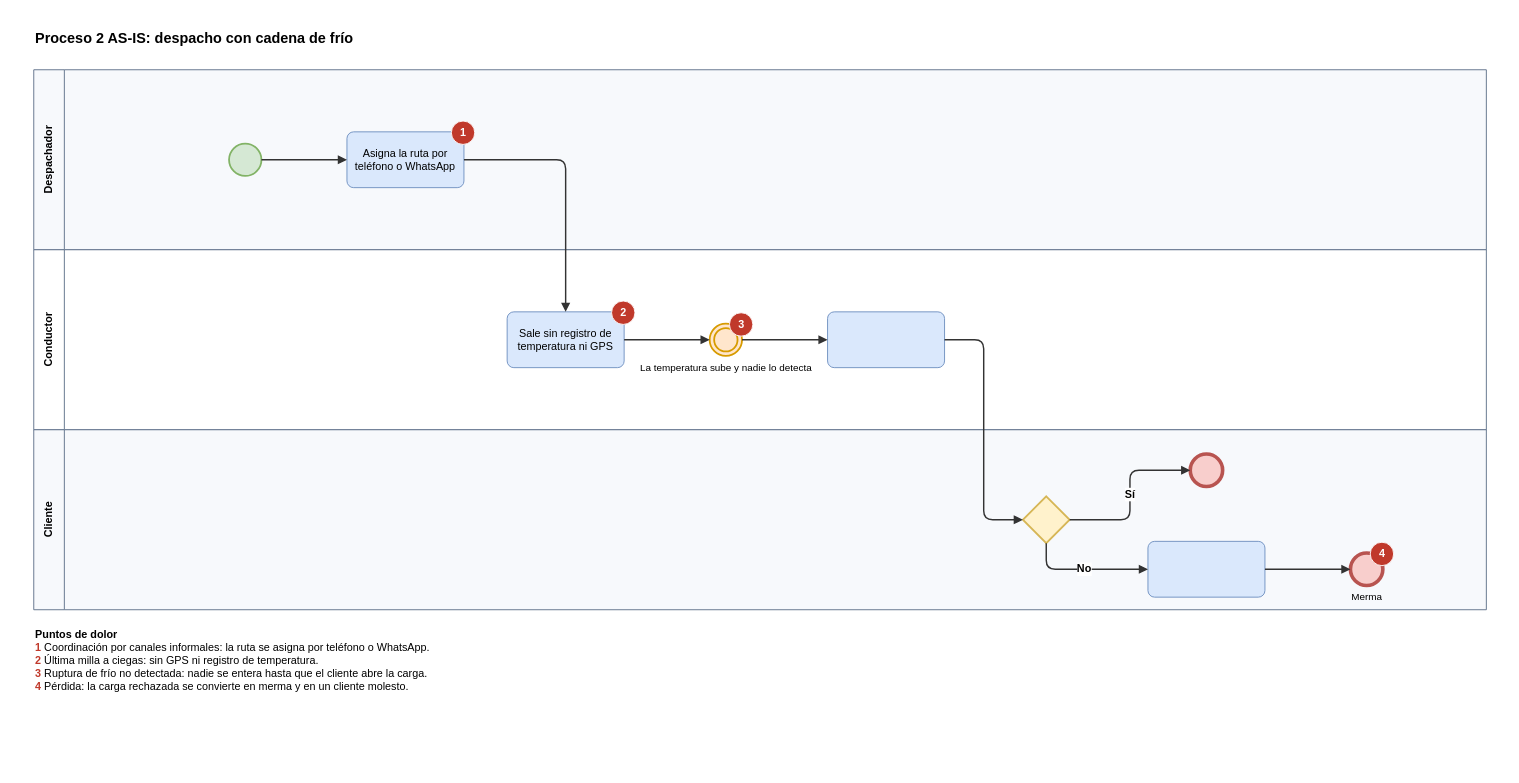
This 1519x783 diagram has some shape labels left out. Each missing label, with the centre of its shape:
Entrega recibida: point (1206, 470)
Llega donde el cliente: point (886, 339)
Pedido listo para despachar: point (245, 159)
Rechaza la carga: point (1206, 568)
¿Carga en condiciones?: point (1046, 519)
